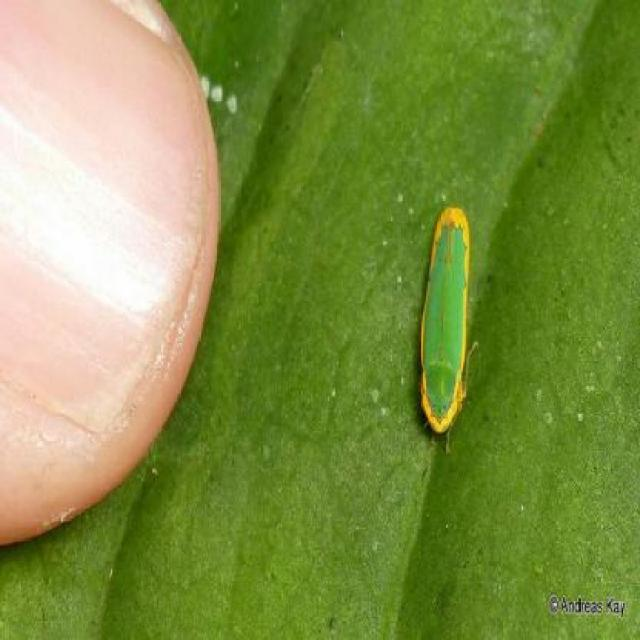green-leafhopper: (408, 202, 486, 442)
